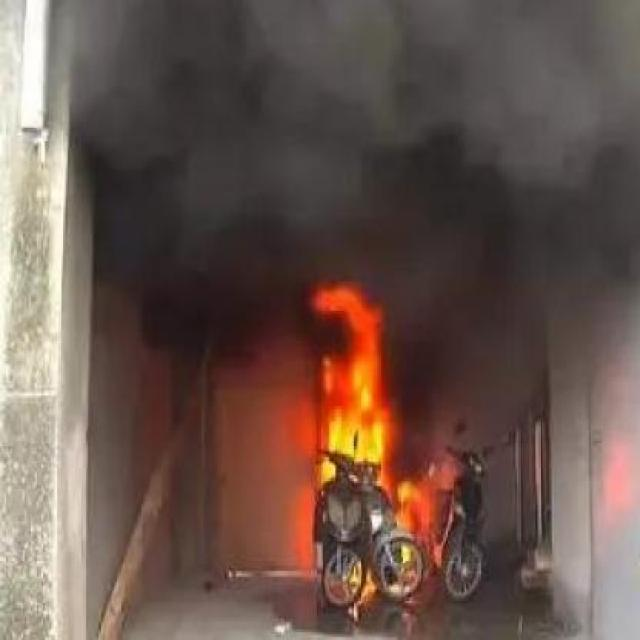Fire: (310, 284, 388, 474), (396, 476, 434, 538)
Smoke: (79, 5, 638, 301)
